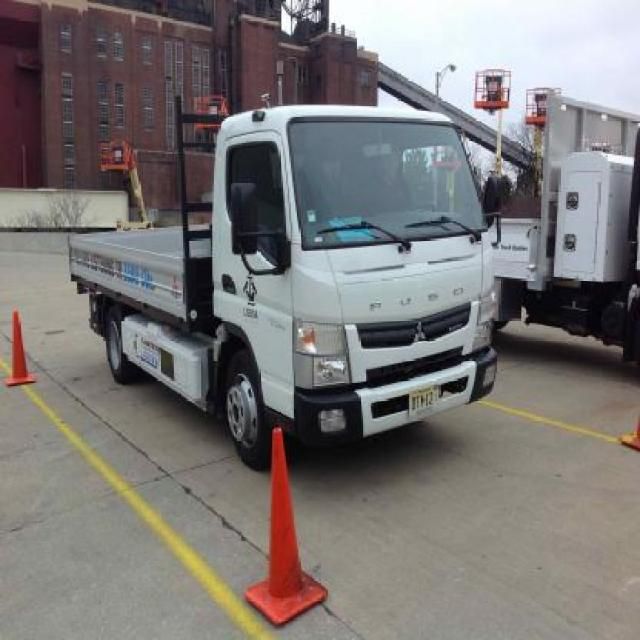truck: (69, 91, 509, 463)
